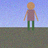person: (24, 2, 38, 30)
